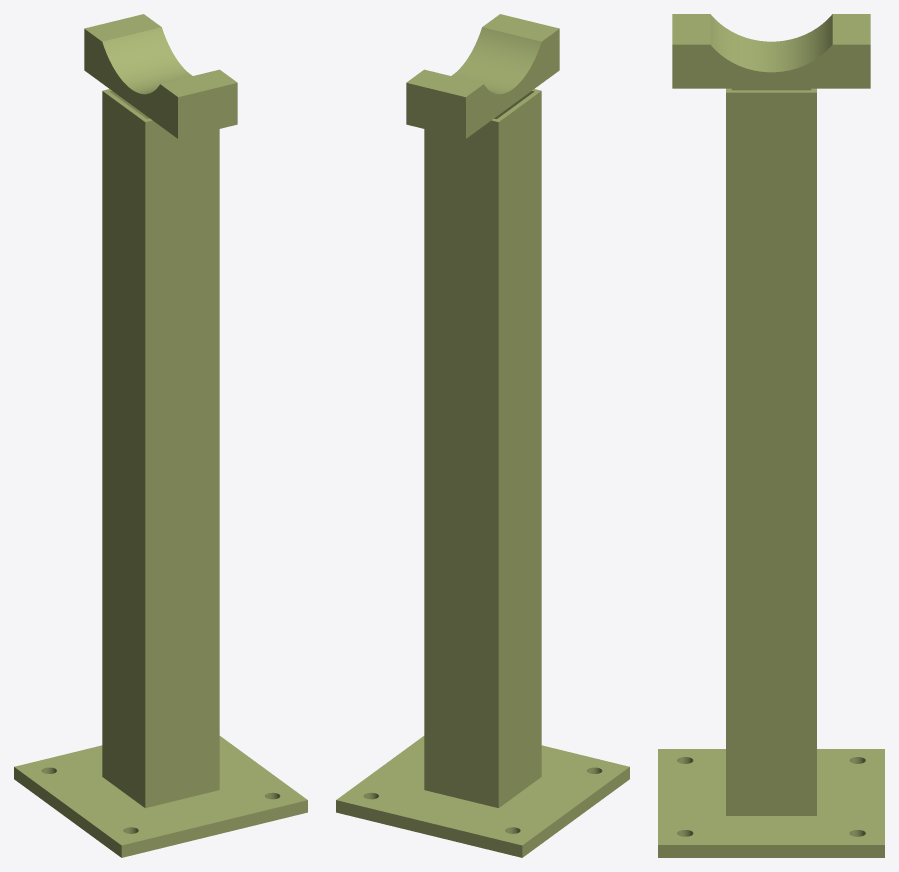
Rendered from step_63.glb.
3 renders of one model, left to right at view 1: azimuth 30°, elevation 25°; view 2: azimuth 150°, elevation 25°; view 3: azimuth 270°, elevation 25°, orthographic. The views are drawn at different scales.
Visible parts, largest first — view 1: part__pipe support SP-101, tall; view 2: part__pipe support SP-101, tall; view 3: part__pipe support SP-101, tall.
Part boxes in pixels (x1=…): part__pipe support SP-101, tall: x1=14, y1=14, x2=307, y2=857; part__pipe support SP-101, tall: x1=336, y1=14, x2=629, y2=857; part__pipe support SP-101, tall: x1=658, y1=14, x2=884, y2=857.
Bounding box in the file's own units: 250 × 950 × 250.
